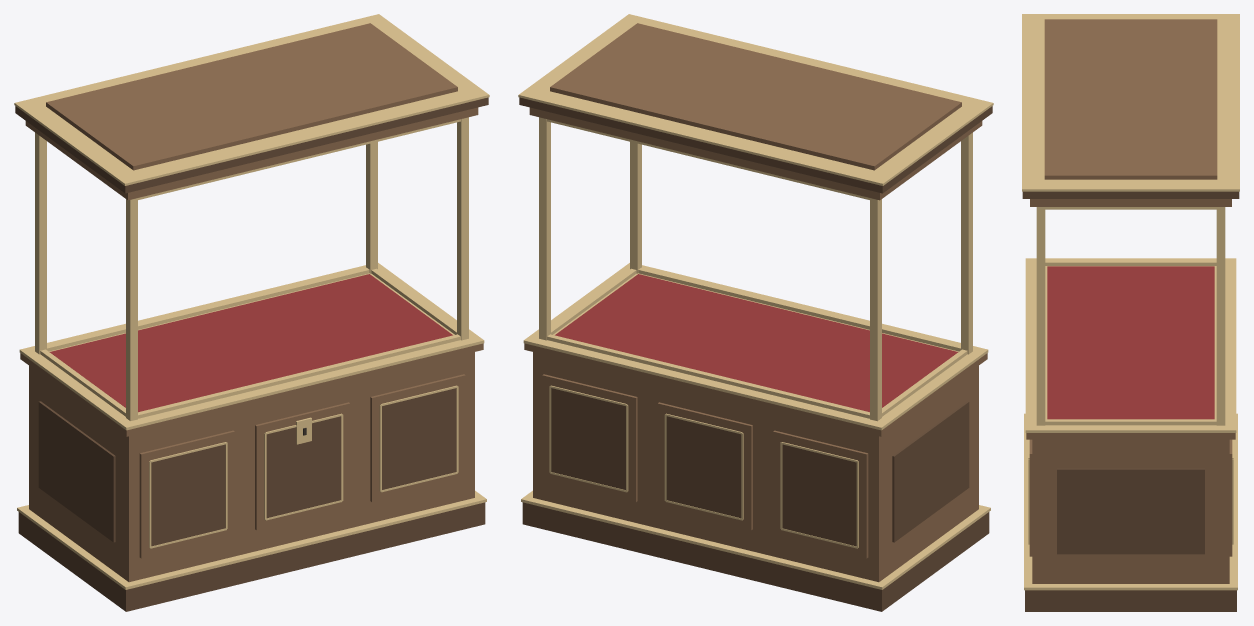
File: lib_vitrine.glb
The picture shows the model from 3 angles, left to right: view 1: azimuth 30°, elevation 25°; view 2: azimuth 150°, elevation 25°; view 3: azimuth 270°, elevation 25°; orthographic projection.
Parts seen in each view (by area): view 1: lib_vitrine; view 2: lib_vitrine; view 3: lib_vitrine.
Part boxes in pixels (<box>): lib_vitrine: <box>14,14,489,611</box>; lib_vitrine: <box>518,14,993,611</box>; lib_vitrine: <box>1022,14,1239,611</box>.
Bounding box in the file's own units: 1.68 × 1.92 × 0.885.
